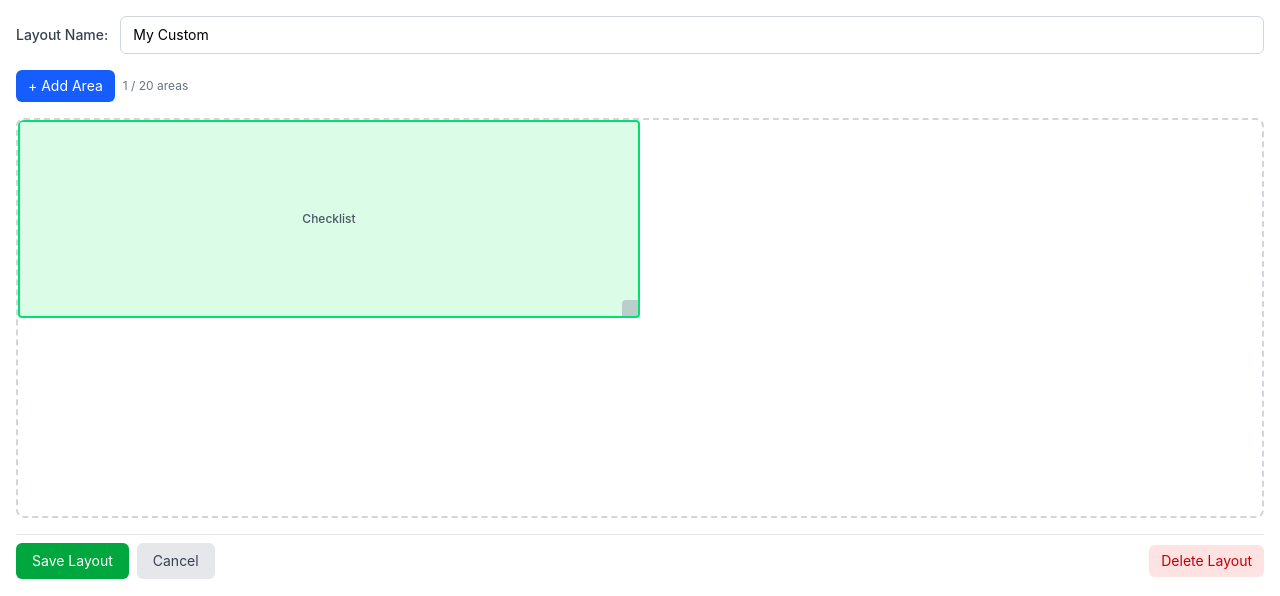
LayoutEditor › Delete with Confirmation › hides confirmation when cancelling delete
This screenshot has width=1280, height=596.
Click the button labelled "Delete Layout". click: {"x": 1207, "y": 561}
box: x1=1149 y1=545 x2=1264 y2=577
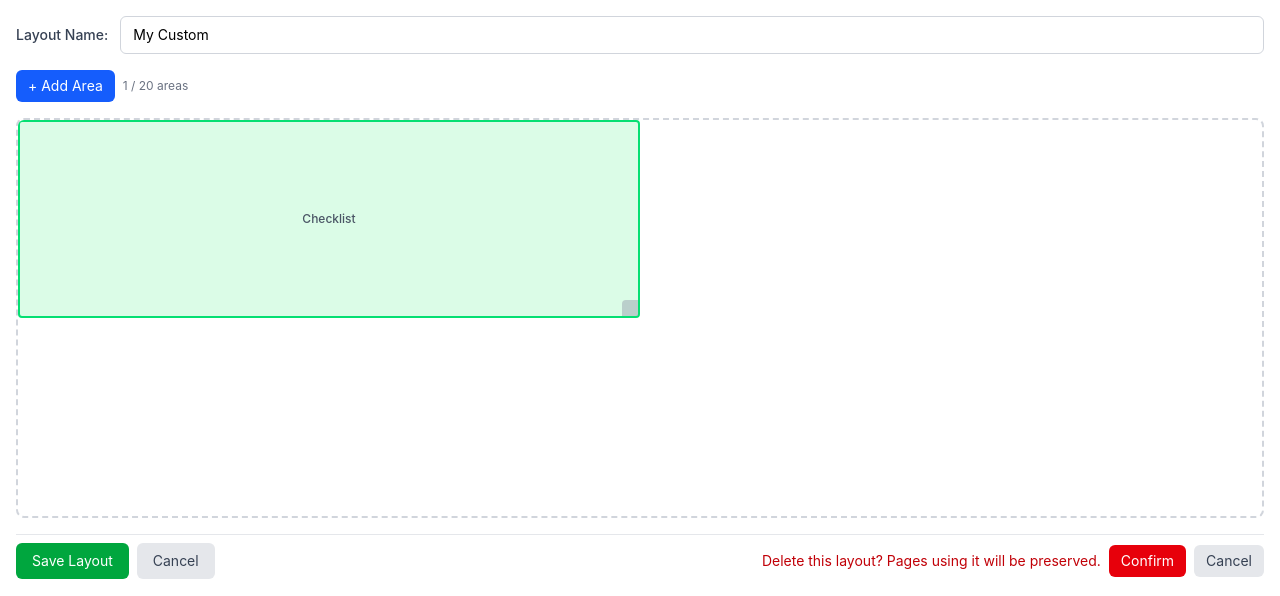
Click the button with aria-label "Cancel delete". click: {"x": 1229, "y": 561}
box: x1=1194 y1=545 x2=1264 y2=577
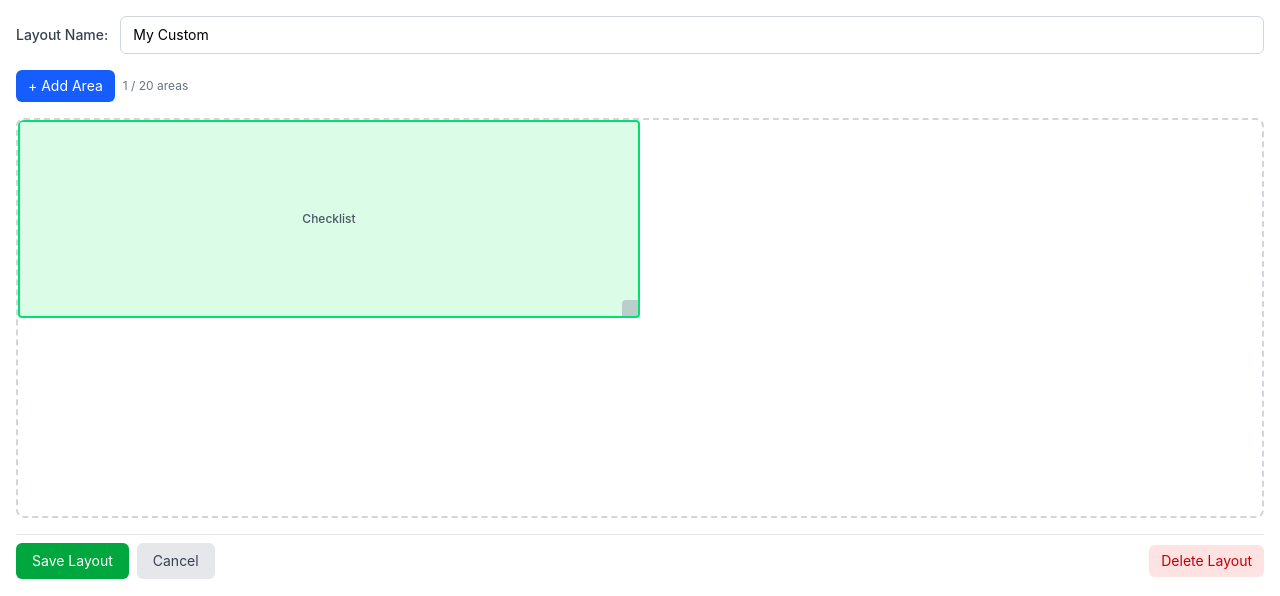
Now the text "Delete this layout? Pages using it will be preserved." is gone
